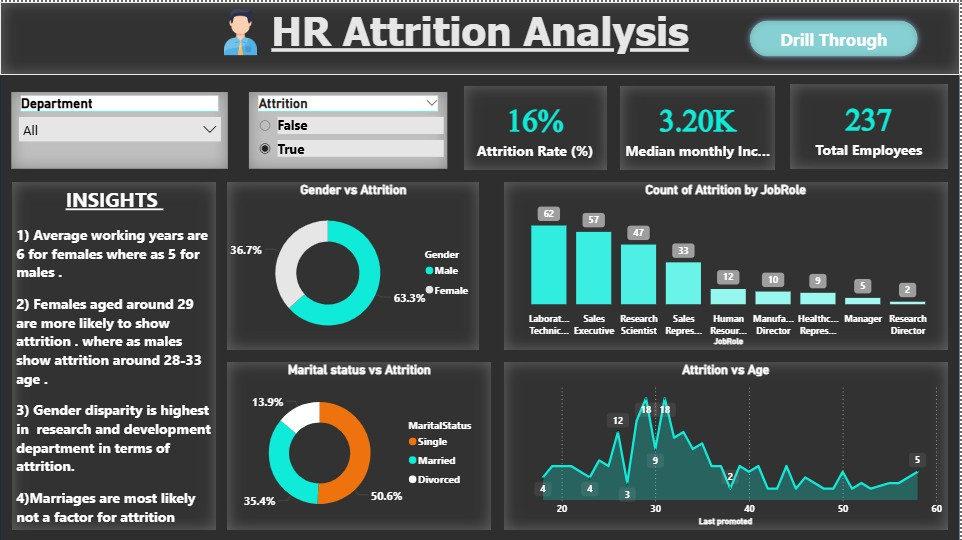

Layout of this report page (visuals, bound fields, positions):
{"tool":"powerbi","page":{"name":"Main Dashboard","canvas":[1280,720],"ordinal":0},"visuals":[{"type":"textbox","box":[0,0,1280,96],"z":0,"group":"g1"},{"type":"shape","box":[0,0,1279.4,720.2],"z":0},{"type":"group","id":"g1","title":"text box","box":[0,0,1280,704],"z":1000},{"type":"textbox","box":[16,240,272,464],"z":1000,"group":"g1"},{"type":"card","fields":{"Values":["Median(HR_EMPLOYEE (2).MonthlyIncome)"]},"box":[827.1,111.5,207.6,113.1],"z":3000},{"type":"donutChart","title":"Gender vs Attrition","fields":{"Category":["HR_EMPLOYEE (2).Gender"],"Series":["HR_EMPLOYEE (2).Attrition"],"Y":["CountNonNull(HR_EMPLOYEE (2).Attrition)"]},"box":[304,240,336,224],"z":7000},{"type":"image","box":[256,0,128,80],"z":9000},{"type":"card","fields":{"Values":["HR_EMPLOYEE (2).total employees"]},"box":[1053.3,110,210.7,113.1],"z":10000},{"type":"donutChart","title":"Marital status vs Attrition","fields":{"Category":["HR_EMPLOYEE (3).MaritalStatus"],"Y":["CountNonNull(HR_EMPLOYEE (2).Attrition)"]},"box":[304,480,352,224],"z":11000},{"type":"card","fields":{"Values":["HR_EMPLOYEE (2).Attrition Rate (%)"]},"box":[618,111.5,190.5,113.1],"z":12000},{"type":"lineClusteredColumnComboChart","fields":{"Category":["HR_EMPLOYEE (2).JobRole"],"Y":["CountNonNull(HR_EMPLOYEE (2).Attrition)"]},"box":[672,240,592,224],"z":13000},{"type":"slicer","fields":{"Values":["HR_EMPLOYEE (2).Department"]},"box":[15.4,120.8,289,102.8],"z":14000},{"type":"shape","title":"drill through ","box":[992,16,240,64],"z":15000},{"type":"slicer","fields":{"Values":["HR_EMPLOYEE (2).Attrition"]},"box":[331.4,120.8,264.6,102.8],"z":16000},{"type":"areaChart","title":"Attrition vs Age","fields":{"Y":["CountNonNull(HR_EMPLOYEE (2).Attrition)"],"Category":["HR_EMPLOYEE (2).Age"]},"box":[672,480,592,224],"z":17000}]}

Visuals, with their boxes in screenshot pixels (x1, y1, x2, y2), scaled from the page's 1280x720 canvas onto the 962x540 screenshot:
textbox: {"left": 0, "top": 0, "right": 961, "bottom": 72}
shape: {"left": 0, "top": 0, "right": 961, "bottom": 539}
"text box" group: {"left": 0, "top": 0, "right": 961, "bottom": 528}
textbox: {"left": 12, "top": 180, "right": 216, "bottom": 528}
card - Median(HR_EMPLOYEE (2).MonthlyIncome): {"left": 622, "top": 84, "right": 778, "bottom": 168}
"Gender vs Attrition" donutChart: {"left": 228, "top": 180, "right": 481, "bottom": 348}
image: {"left": 192, "top": 0, "right": 289, "bottom": 60}
card - HR_EMPLOYEE (2).total employees: {"left": 792, "top": 82, "right": 950, "bottom": 167}
"Marital status vs Attrition" donutChart: {"left": 228, "top": 360, "right": 493, "bottom": 528}
card - HR_EMPLOYEE (2).Attrition Rate (%): {"left": 464, "top": 84, "right": 608, "bottom": 168}
lineClusteredColumnComboChart - HR_EMPLOYEE (2).JobRole x CountNonNull(HR_EMPLOYEE (2).Attrition): {"left": 505, "top": 180, "right": 950, "bottom": 348}
slicer - HR_EMPLOYEE (2).Department: {"left": 12, "top": 91, "right": 229, "bottom": 168}
"drill through " shape: {"left": 746, "top": 12, "right": 926, "bottom": 60}
slicer - HR_EMPLOYEE (2).Attrition: {"left": 249, "top": 91, "right": 448, "bottom": 168}
"Attrition vs Age" areaChart: {"left": 505, "top": 360, "right": 950, "bottom": 528}
